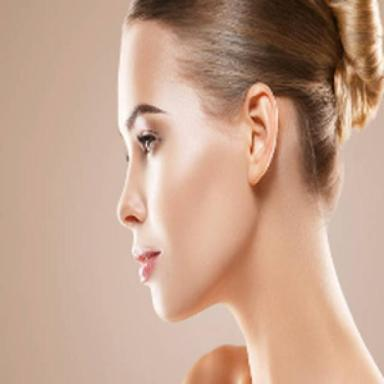normal skin: (118, 20, 384, 384)
